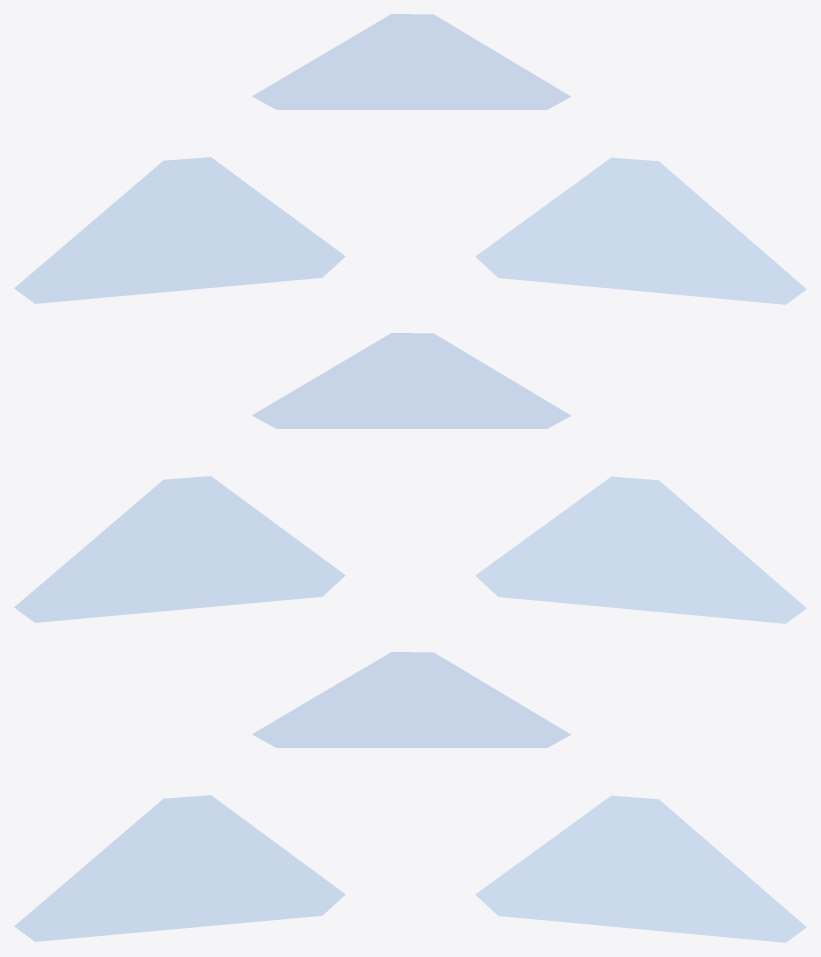
File: XNR_1_UV7.FBX
The picture shows the model from 3 angles, top to bottom: view 1: azimuth 30°, elevation 25°; view 2: azimuth 150°, elevation 25°; view 3: azimuth 270°, elevation 25°; orthographic projection.
Parts seen in each view (by area): view 1: XNR_1_UV7; view 2: XNR_1_UV7; view 3: XNR_1_UV7.
Part boxes in pixels (x1,y1,x2,y2): XNR_1_UV7: (14, 14, 806, 304); XNR_1_UV7: (14, 333, 806, 623); XNR_1_UV7: (14, 652, 806, 942).
Bounding box in the file's own units: 27.69 × 1.24 × 31.92.
